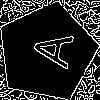A: (22, 27, 74, 69)
